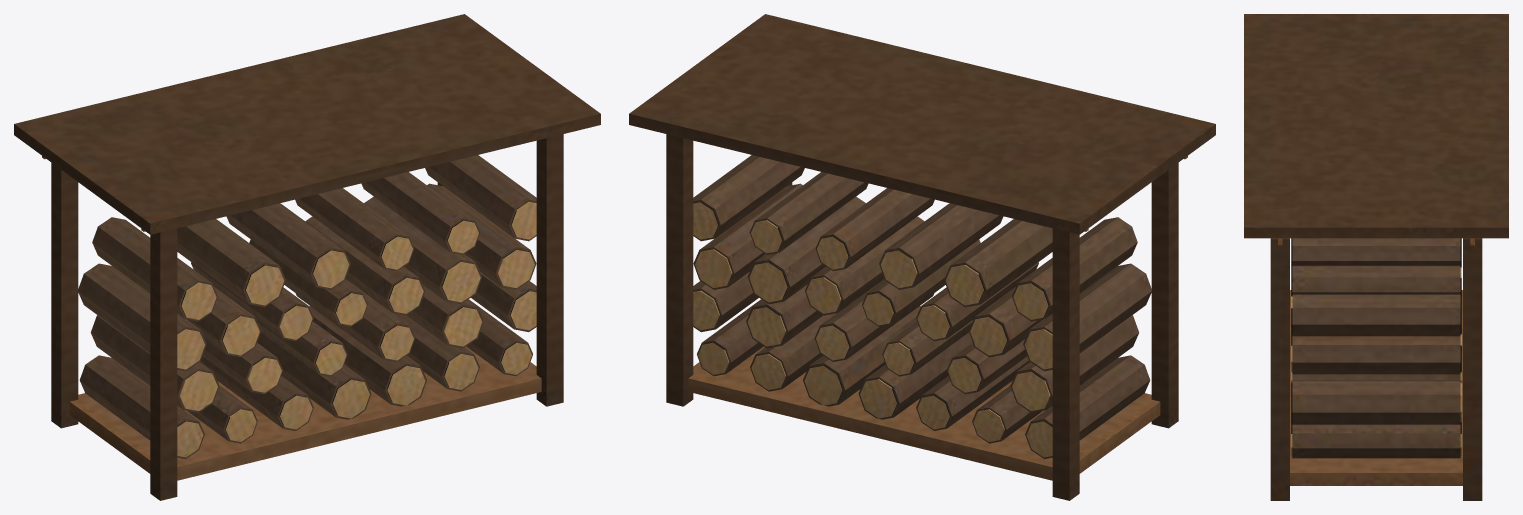
The model's file is wood-storage.glb.
3 renders of one model, left to right at view 1: azimuth 30°, elevation 25°; view 2: azimuth 150°, elevation 25°; view 3: azimuth 270°, elevation 25°, orthographic. The views are drawn at different scales.
Visible parts, largest first — view 1: wood_storage; view 2: wood_storage; view 3: wood_storage.
Boxes of the visible parts, x1=… form: wood_storage: x1=14, y1=14, x2=600, y2=500; wood_storage: x1=629, y1=14, x2=1215, y2=500; wood_storage: x1=1244, y1=14, x2=1508, y2=500.
Bounding box in the file's own units: 2.1 × 1.3 × 1.1.
4 materials, 4 textured.
